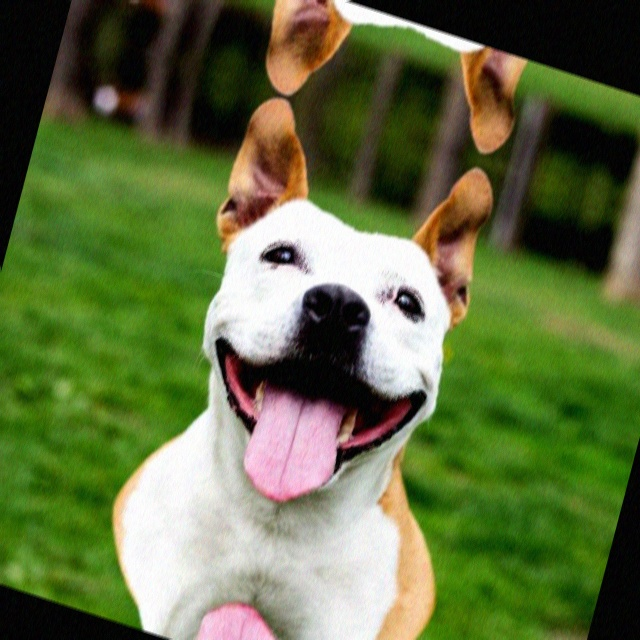dog: (101, 72, 560, 612), (212, 0, 587, 185), (72, 500, 448, 640)
